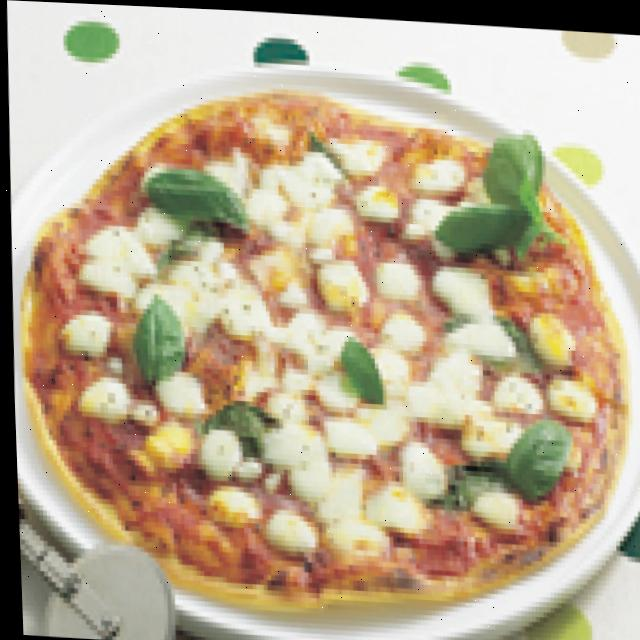汉堡快餐: (1, 39, 640, 640)
